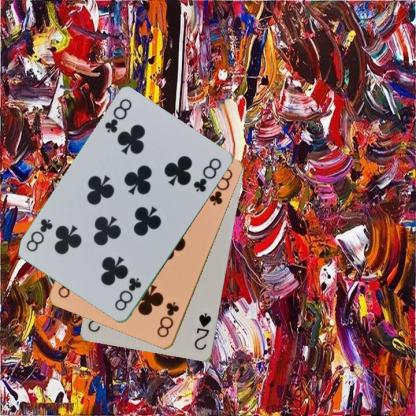2s: (192, 310, 212, 352)
8c: (102, 96, 134, 135), (112, 275, 143, 313), (154, 299, 181, 339)
